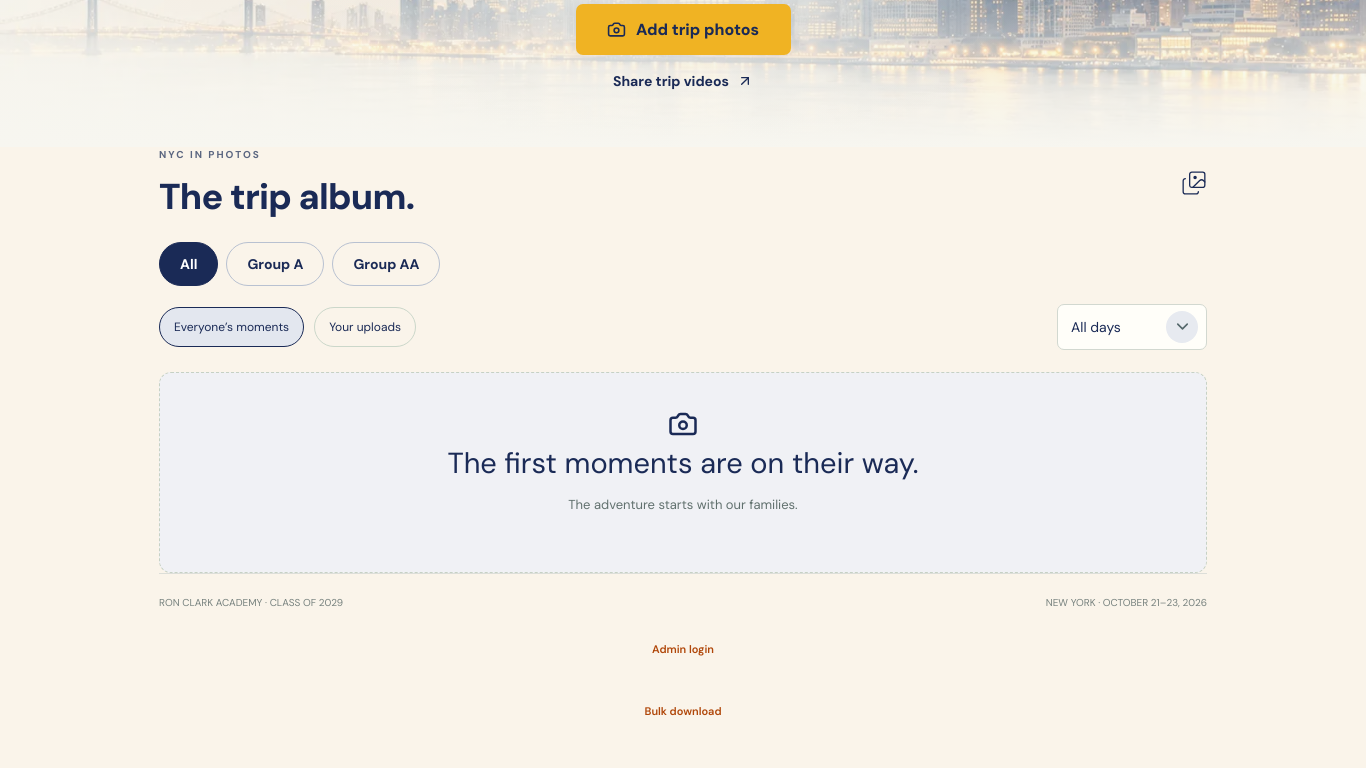
Test case: opens sign-in from the footer without selecting photos
(page scrolled)
Click the button "Admin login".
click(683, 649)  # box [159,627,1207,671]
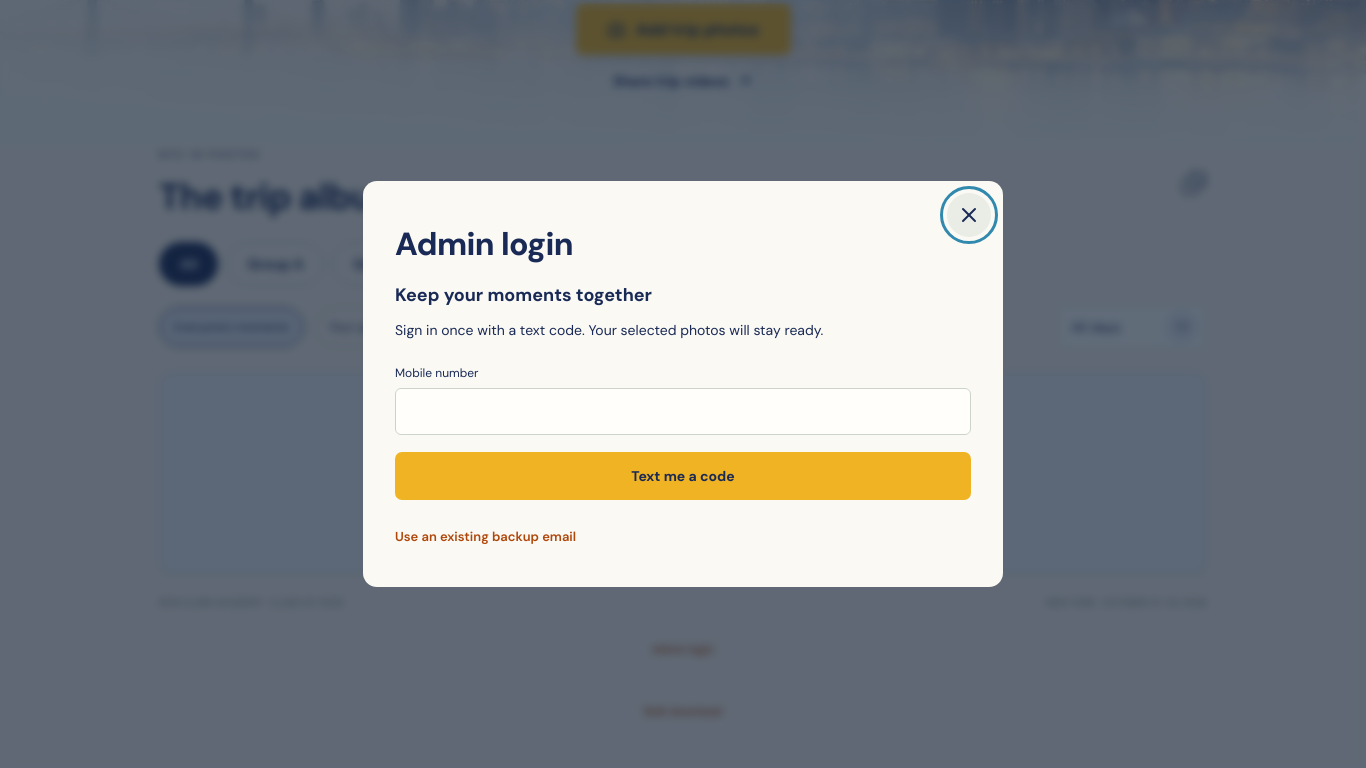
Now the dialog shows "Mobile number", box [395,364,478,380]
